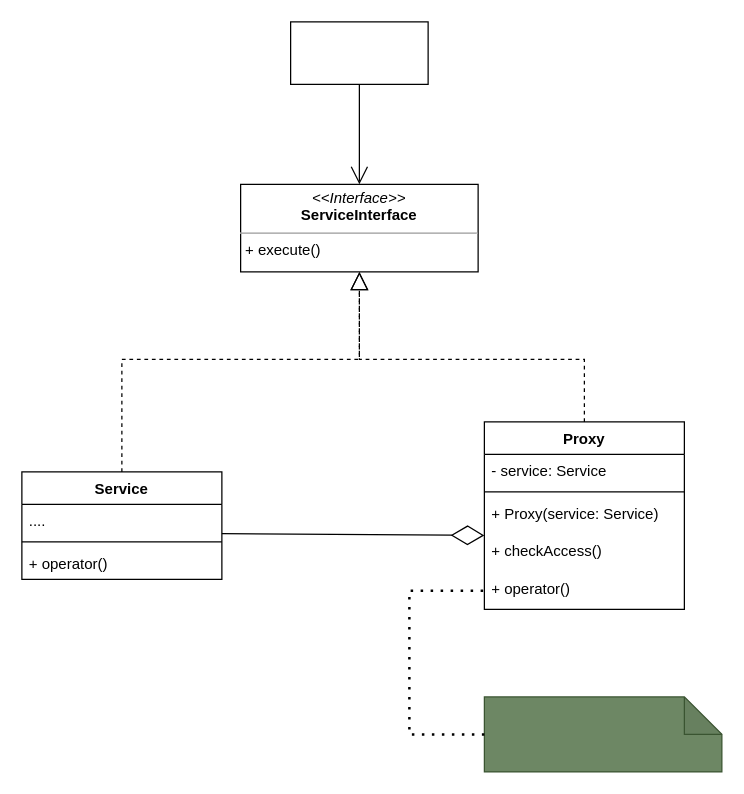
Some shapes in this 744 by 794 pixel diagram are drawn without their labels. Here are the shapes that lost their labels. From the top down, the box of each, then its label:
(289, 21, 428, 84): Client
(483, 696, 722, 772): if(checkAccess()) { service.operator() }
